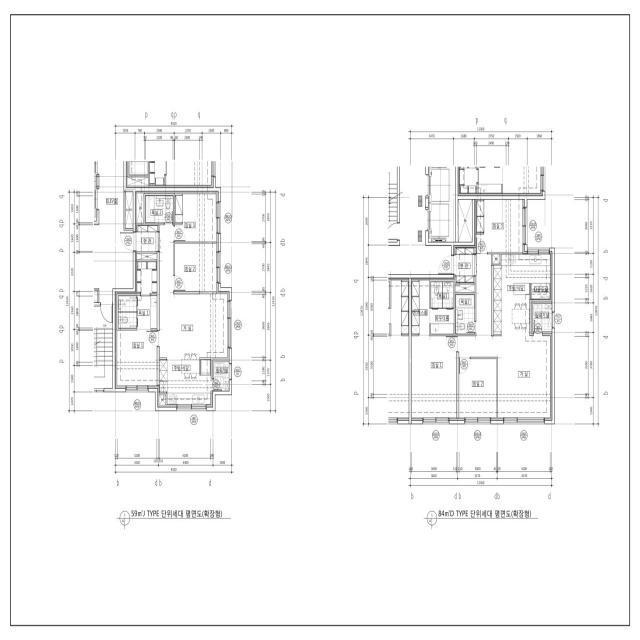space_bedroom: (412, 336, 456, 420), (475, 200, 525, 252), (115, 330, 157, 388), (459, 359, 496, 420), (175, 191, 218, 242), (175, 244, 218, 291)
space_dressroom: (412, 278, 454, 336), (136, 262, 157, 294)
space_elevator: (428, 203, 455, 242), (428, 167, 455, 203), (94, 161, 97, 221)
space_elevator_hall: (388, 167, 451, 274), (94, 161, 133, 302)
space_front: (454, 246, 475, 283), (136, 225, 158, 252)
space_kitchen: (494, 252, 552, 336), (158, 337, 213, 407)
space_living_room: (458, 254, 552, 420), (160, 225, 229, 360)
space_multipurpose_space: (531, 283, 552, 302)
space_other: (458, 199, 472, 242), (125, 191, 133, 228), (136, 191, 144, 223), (136, 253, 157, 260), (455, 285, 475, 292), (158, 395, 166, 407), (493, 254, 500, 264), (94, 291, 98, 302)
space_outdoor_room: (533, 304, 552, 331), (214, 362, 229, 391)
space_staircase: (94, 306, 113, 388), (388, 167, 397, 242)
space_toilet: (118, 296, 157, 328), (455, 294, 475, 334), (145, 195, 173, 223), (443, 282, 454, 308), (431, 282, 442, 308)
